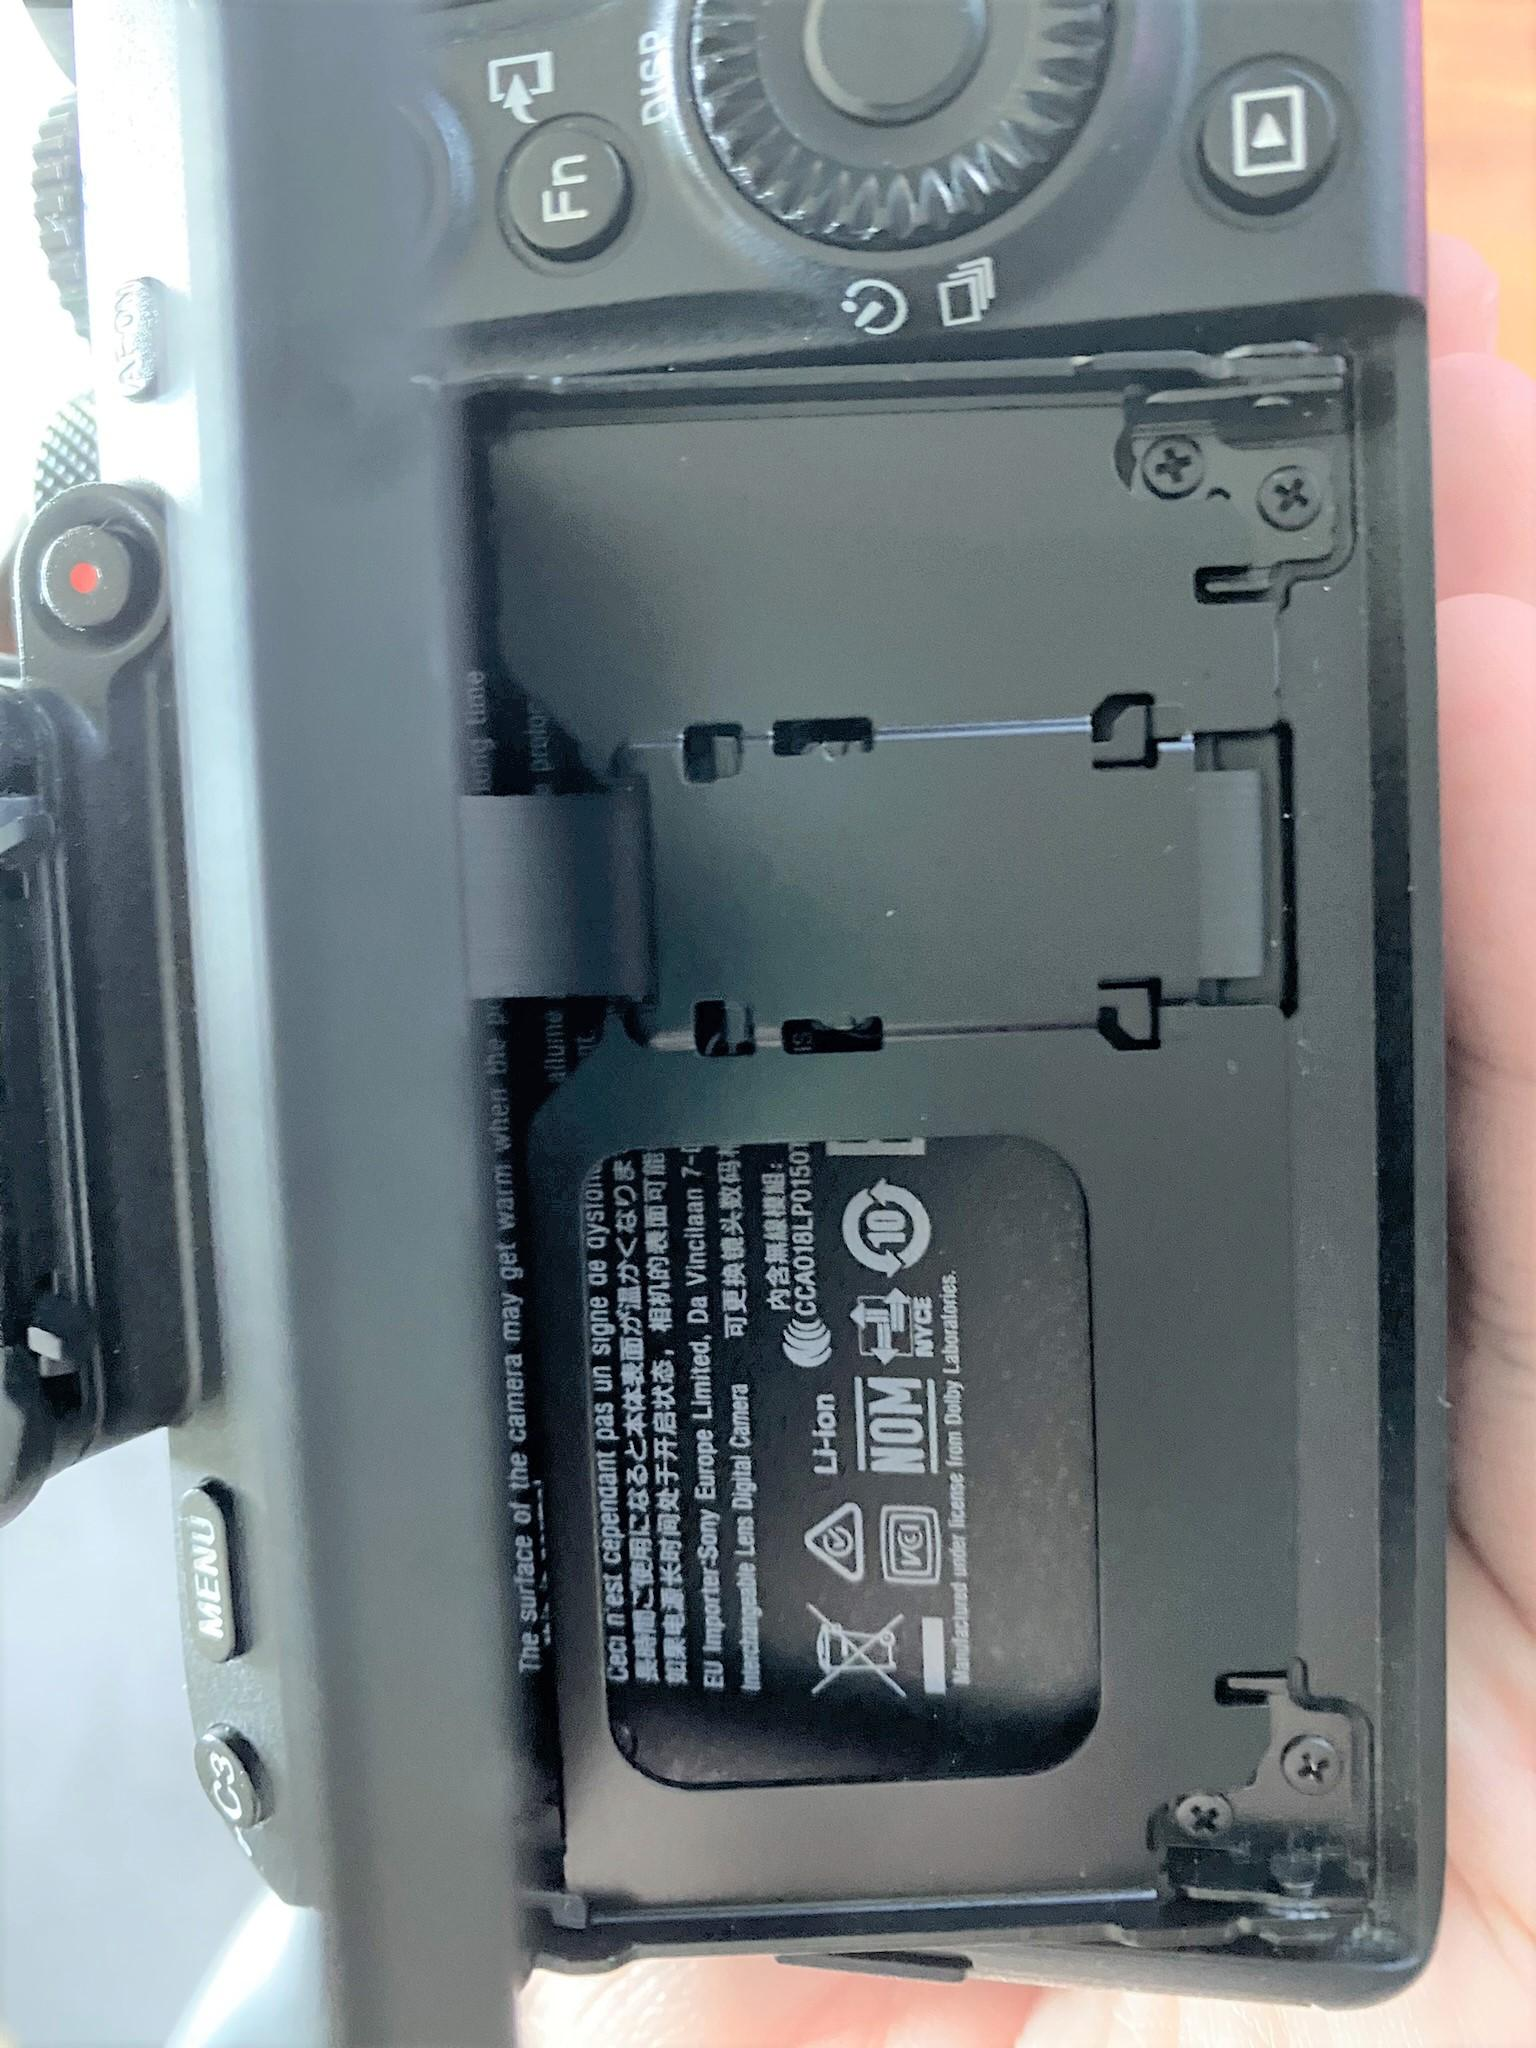PH: (1142, 427, 1210, 500), (1258, 460, 1326, 532), (1279, 1732, 1346, 1800), (1175, 1790, 1236, 1851)
